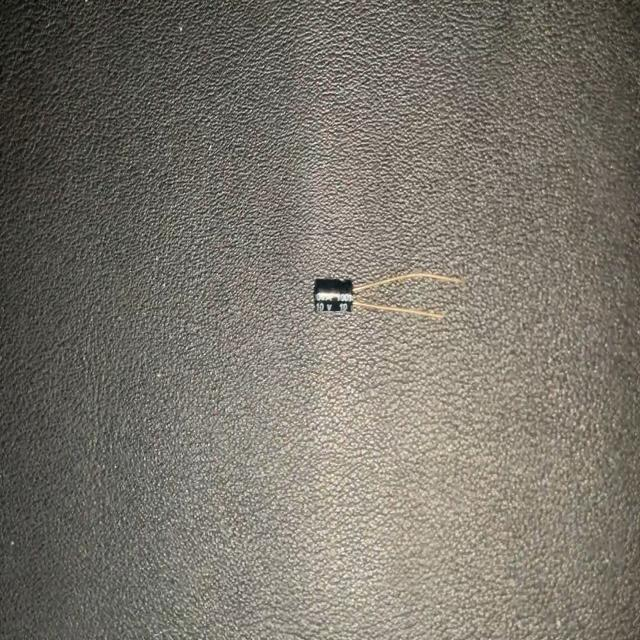capacitor: (311, 264, 464, 327)
